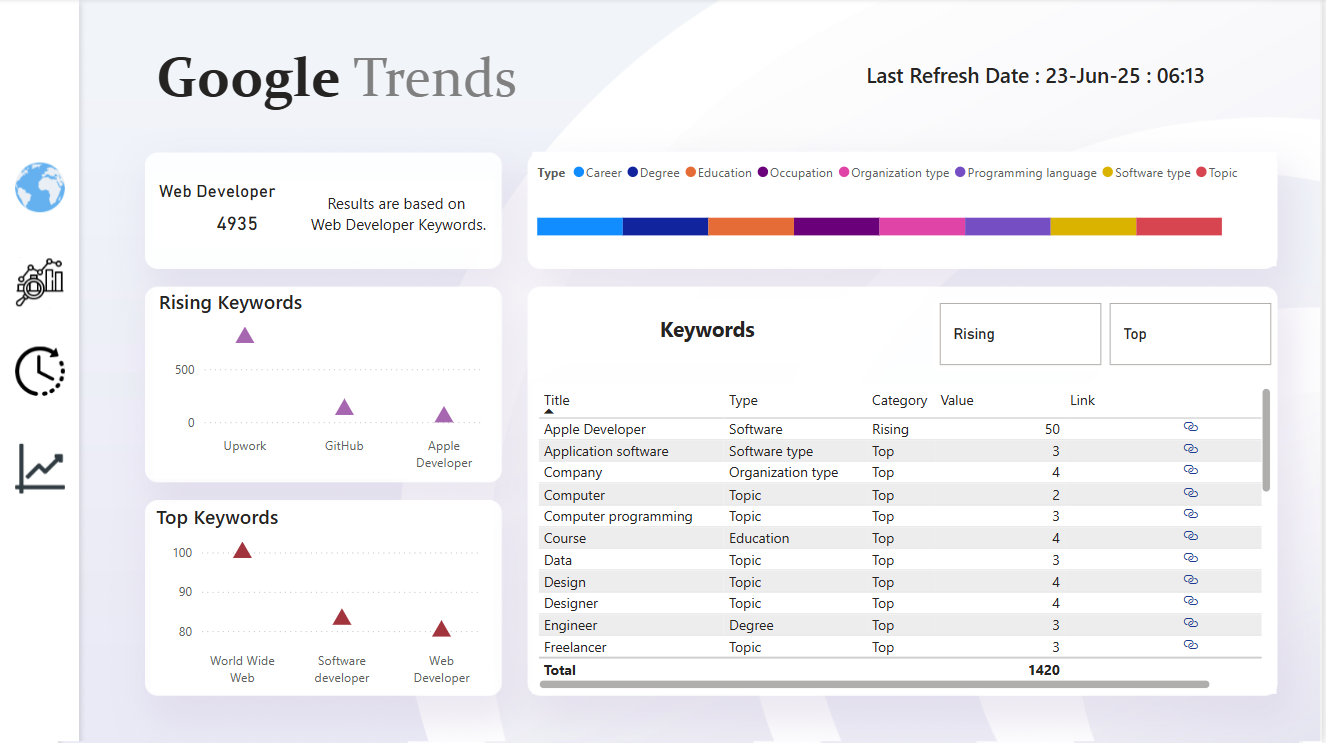

What the dashboard file says about the page in this screenshot:
{"tool":"powerbi","page":{"name":"Rising and Top Keywords","canvas":[1280,720],"ordinal":3},"visuals":[{"type":"card","fields":{"Values":["By_Date_API.Imp_Value"]},"box":[152,176,162,64],"z":0},{"type":"card","fields":{"Values":["Related_Keywords_Main.Imp_Short_Title"]},"box":[296,176,186,64],"z":1000},{"type":"lineChart","title":"Rising Keywords","fields":{"Category":["Rising_Keywords.Title"],"Y":["Sum(Rising_Keywords.Value)"]},"box":[152,280,330,184],"z":2000},{"type":"lineChart","title":"Top Keywords","fields":{"Category":["Top_Keywords.Title"],"Y":["Sum(Top_Keywords.Value)"]},"box":[150,488,330,184],"z":3000},{"type":"barChart","fields":{"Y":["Sum(Rising_Keywords.Value)"],"Series":["Top_Keywords.Type"]},"box":[518,148,718,110],"z":4000},{"type":"advancedSlicerVisual","fields":{"Values":["Rising_Top.Category"]},"box":[906,290,330,70],"z":5000},{"type":"tableEx","fields":{"Values":["Rising_Top.Title","Rising_Top.Type","Rising_Top.Category","Sum(Rising_Top.Value)","Rising_Top.Link"]},"box":[518,372,718,300],"z":6000},{"type":"card","fields":{"Values":["Rising_Top.Title_TR"]},"box":[542,290,284,64],"z":7000},{"type":"textbox","box":[150,40,534,76],"z":8000},{"type":"card","fields":{"Values":["Min(Refresh_Date.Refresh_Date)"]},"box":[798,50,412,54],"z":9000},{"type":"actionButton","box":[14,148,56,68],"z":10000},{"type":"actionButton","box":[14,240,56,68],"z":11000},{"type":"actionButton","box":[14,326,56,68],"z":12000},{"type":"actionButton","box":[14,420,56,68],"z":13000}]}

Visuals, with their boxes on the page's 1280x720 design canvas (x1, y1, x2, y2). These are canvas units, not pixel positions in the 1326x743 screenshot, which may show the page scaled, cropped or inside an application window:
card - By_Date_API.Imp_Value: {"left": 152, "top": 176, "right": 314, "bottom": 240}
card - Related_Keywords_Main.Imp_Short_Title: {"left": 296, "top": 176, "right": 482, "bottom": 240}
"Rising Keywords" lineChart: {"left": 152, "top": 280, "right": 482, "bottom": 464}
"Top Keywords" lineChart: {"left": 150, "top": 488, "right": 480, "bottom": 672}
barChart - Sum(Rising_Keywords.Value) x Top_Keywords.Type: {"left": 518, "top": 148, "right": 1236, "bottom": 258}
advancedSlicerVisual - Rising_Top.Category: {"left": 906, "top": 290, "right": 1236, "bottom": 360}
tableEx - Rising_Top.Title x Rising_Top.Type: {"left": 518, "top": 372, "right": 1236, "bottom": 672}
card - Rising_Top.Title_TR: {"left": 542, "top": 290, "right": 826, "bottom": 354}
textbox: {"left": 150, "top": 40, "right": 684, "bottom": 116}
card - Min(Refresh_Date.Refresh_Date): {"left": 798, "top": 50, "right": 1210, "bottom": 104}
actionButton: {"left": 14, "top": 148, "right": 70, "bottom": 216}
actionButton: {"left": 14, "top": 240, "right": 70, "bottom": 308}
actionButton: {"left": 14, "top": 326, "right": 70, "bottom": 394}
actionButton: {"left": 14, "top": 420, "right": 70, "bottom": 488}
